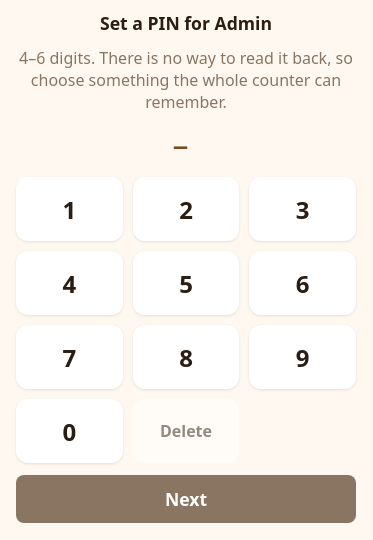
PinPrompt — entering a stored PIN › masks the digits — they are never rendered as text
This screenshot has width=373, height=540.
Click the button "4" at (69, 283), box 16,251 -> 123,315
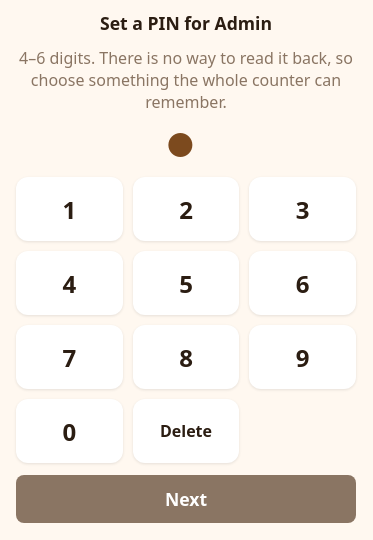
Click the button "8" at (186, 357), box 133,325 -> 239,389
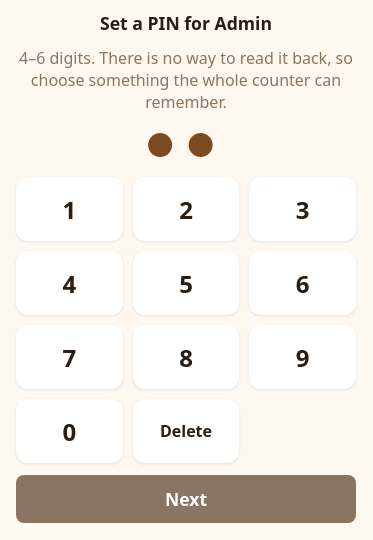
Click the button "2" at (186, 209), box 133,177 -> 239,241
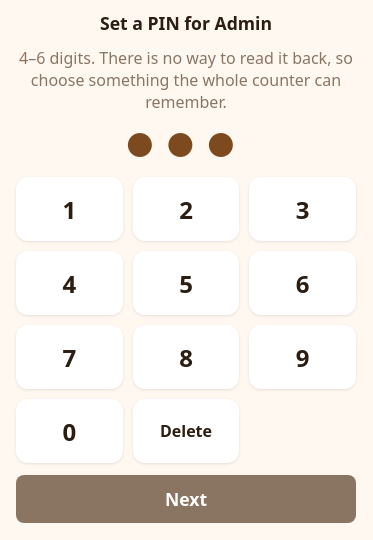
Click the button "1" at (69, 209), box 16,177 -> 123,241
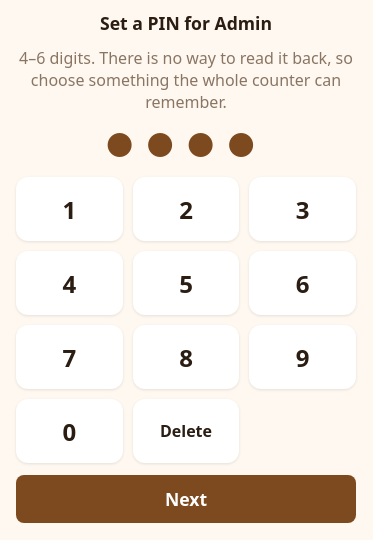
Check: the text named "4 digits entered" reads "●●●●", box 105,123 -> 267,166
